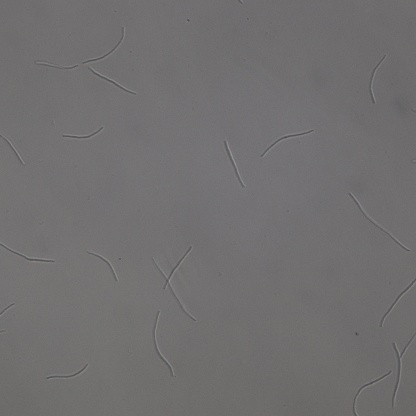Sensitive: (151, 246, 196, 319), (350, 193, 407, 250), (390, 334, 416, 409), (352, 371, 390, 416), (381, 278, 416, 326), (261, 129, 314, 155), (150, 311, 171, 376), (83, 28, 123, 62), (89, 68, 134, 94), (1, 242, 53, 263), (368, 56, 386, 103), (225, 141, 243, 187), (46, 362, 89, 381), (87, 252, 116, 280), (1, 134, 24, 164), (63, 126, 102, 142)
